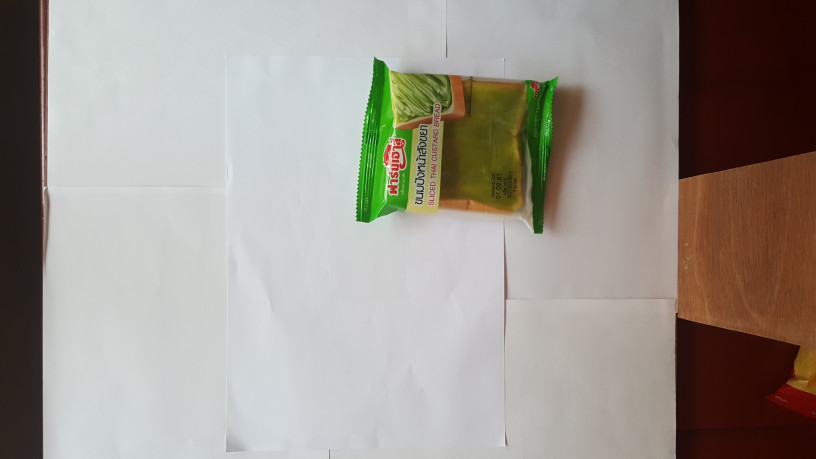farmhouse-bread-pandan: (354, 53, 563, 236)
